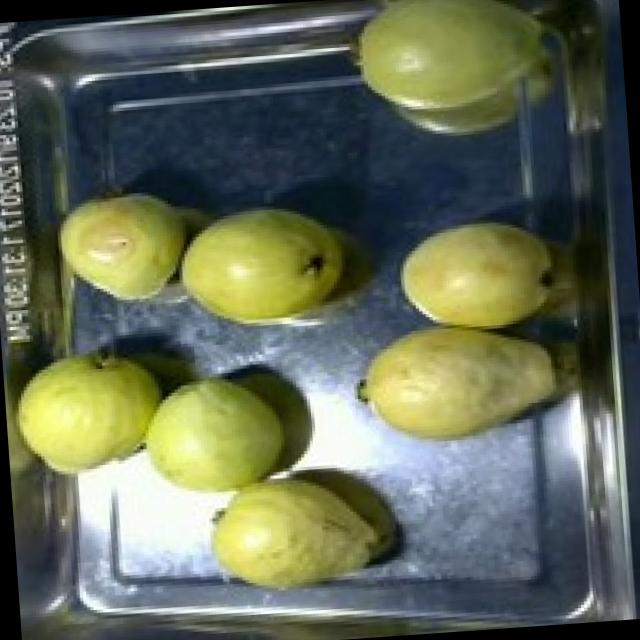Fruit: (186, 446, 417, 618), (339, 0, 571, 157), (342, 306, 569, 459), (131, 355, 327, 522), (164, 190, 359, 344), (2, 342, 187, 492), (386, 207, 564, 334), (51, 175, 200, 319)
